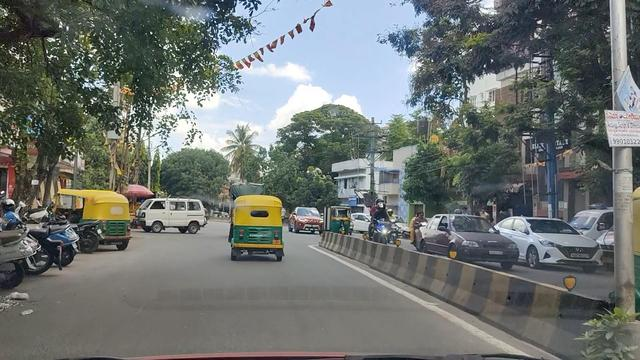LMV: (53, 190, 129, 243), (233, 198, 284, 261), (140, 197, 211, 234)
